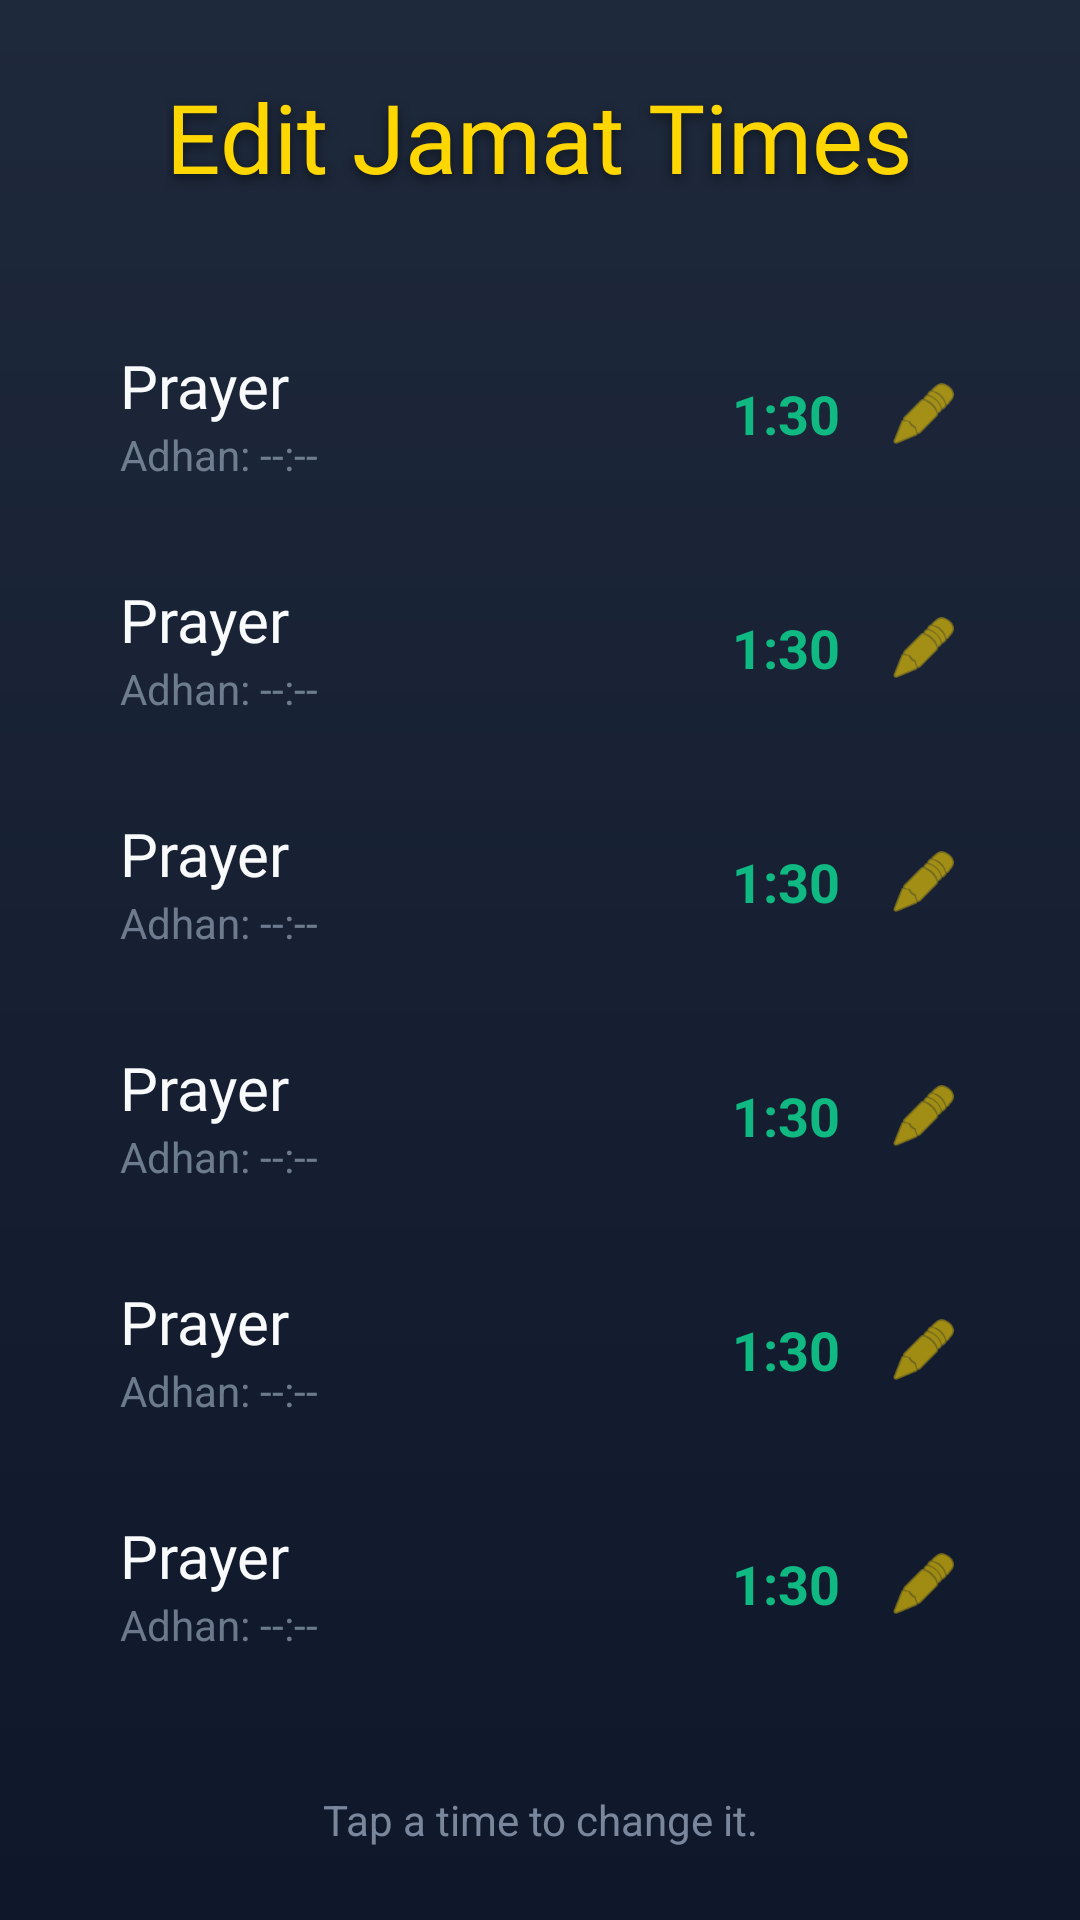

Screen size 1080px×1920px. Icon name, then its box in pixels as (x1, y1, x2, y2):
edit: (893, 383, 954, 444), (893, 617, 954, 678), (893, 851, 954, 912), (893, 1085, 954, 1146), (893, 1319, 954, 1380), (893, 1553, 954, 1614)
